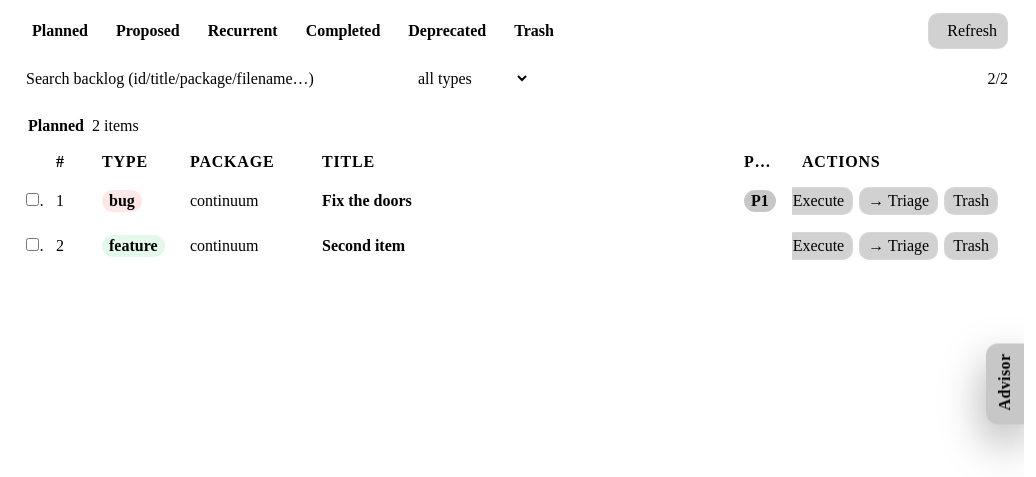
BacklogBrowserPage pins (archive redesign) › filters via search
expect the text "Fix the doors" is shown: met, box x1=312 y1=179 x2=734 y2=224
Type "second" into the field with placeholder "Search backlog (id/title/package/filename…)". click: (206, 78)
box: x1=16 y1=60 x2=396 y2=96
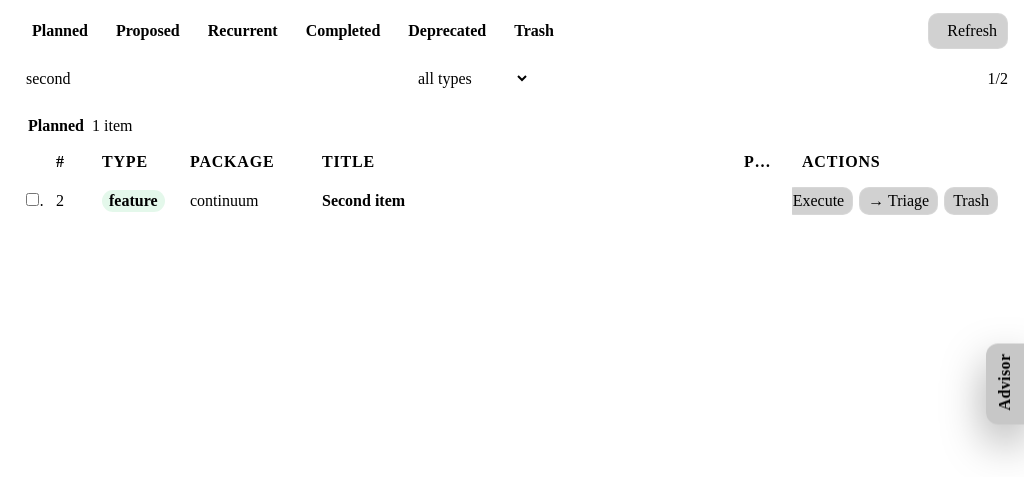
expect the text "Second item" is shown: met, box x1=312 y1=179 x2=734 y2=223
expect the text "Fix the doors" is gone: met
